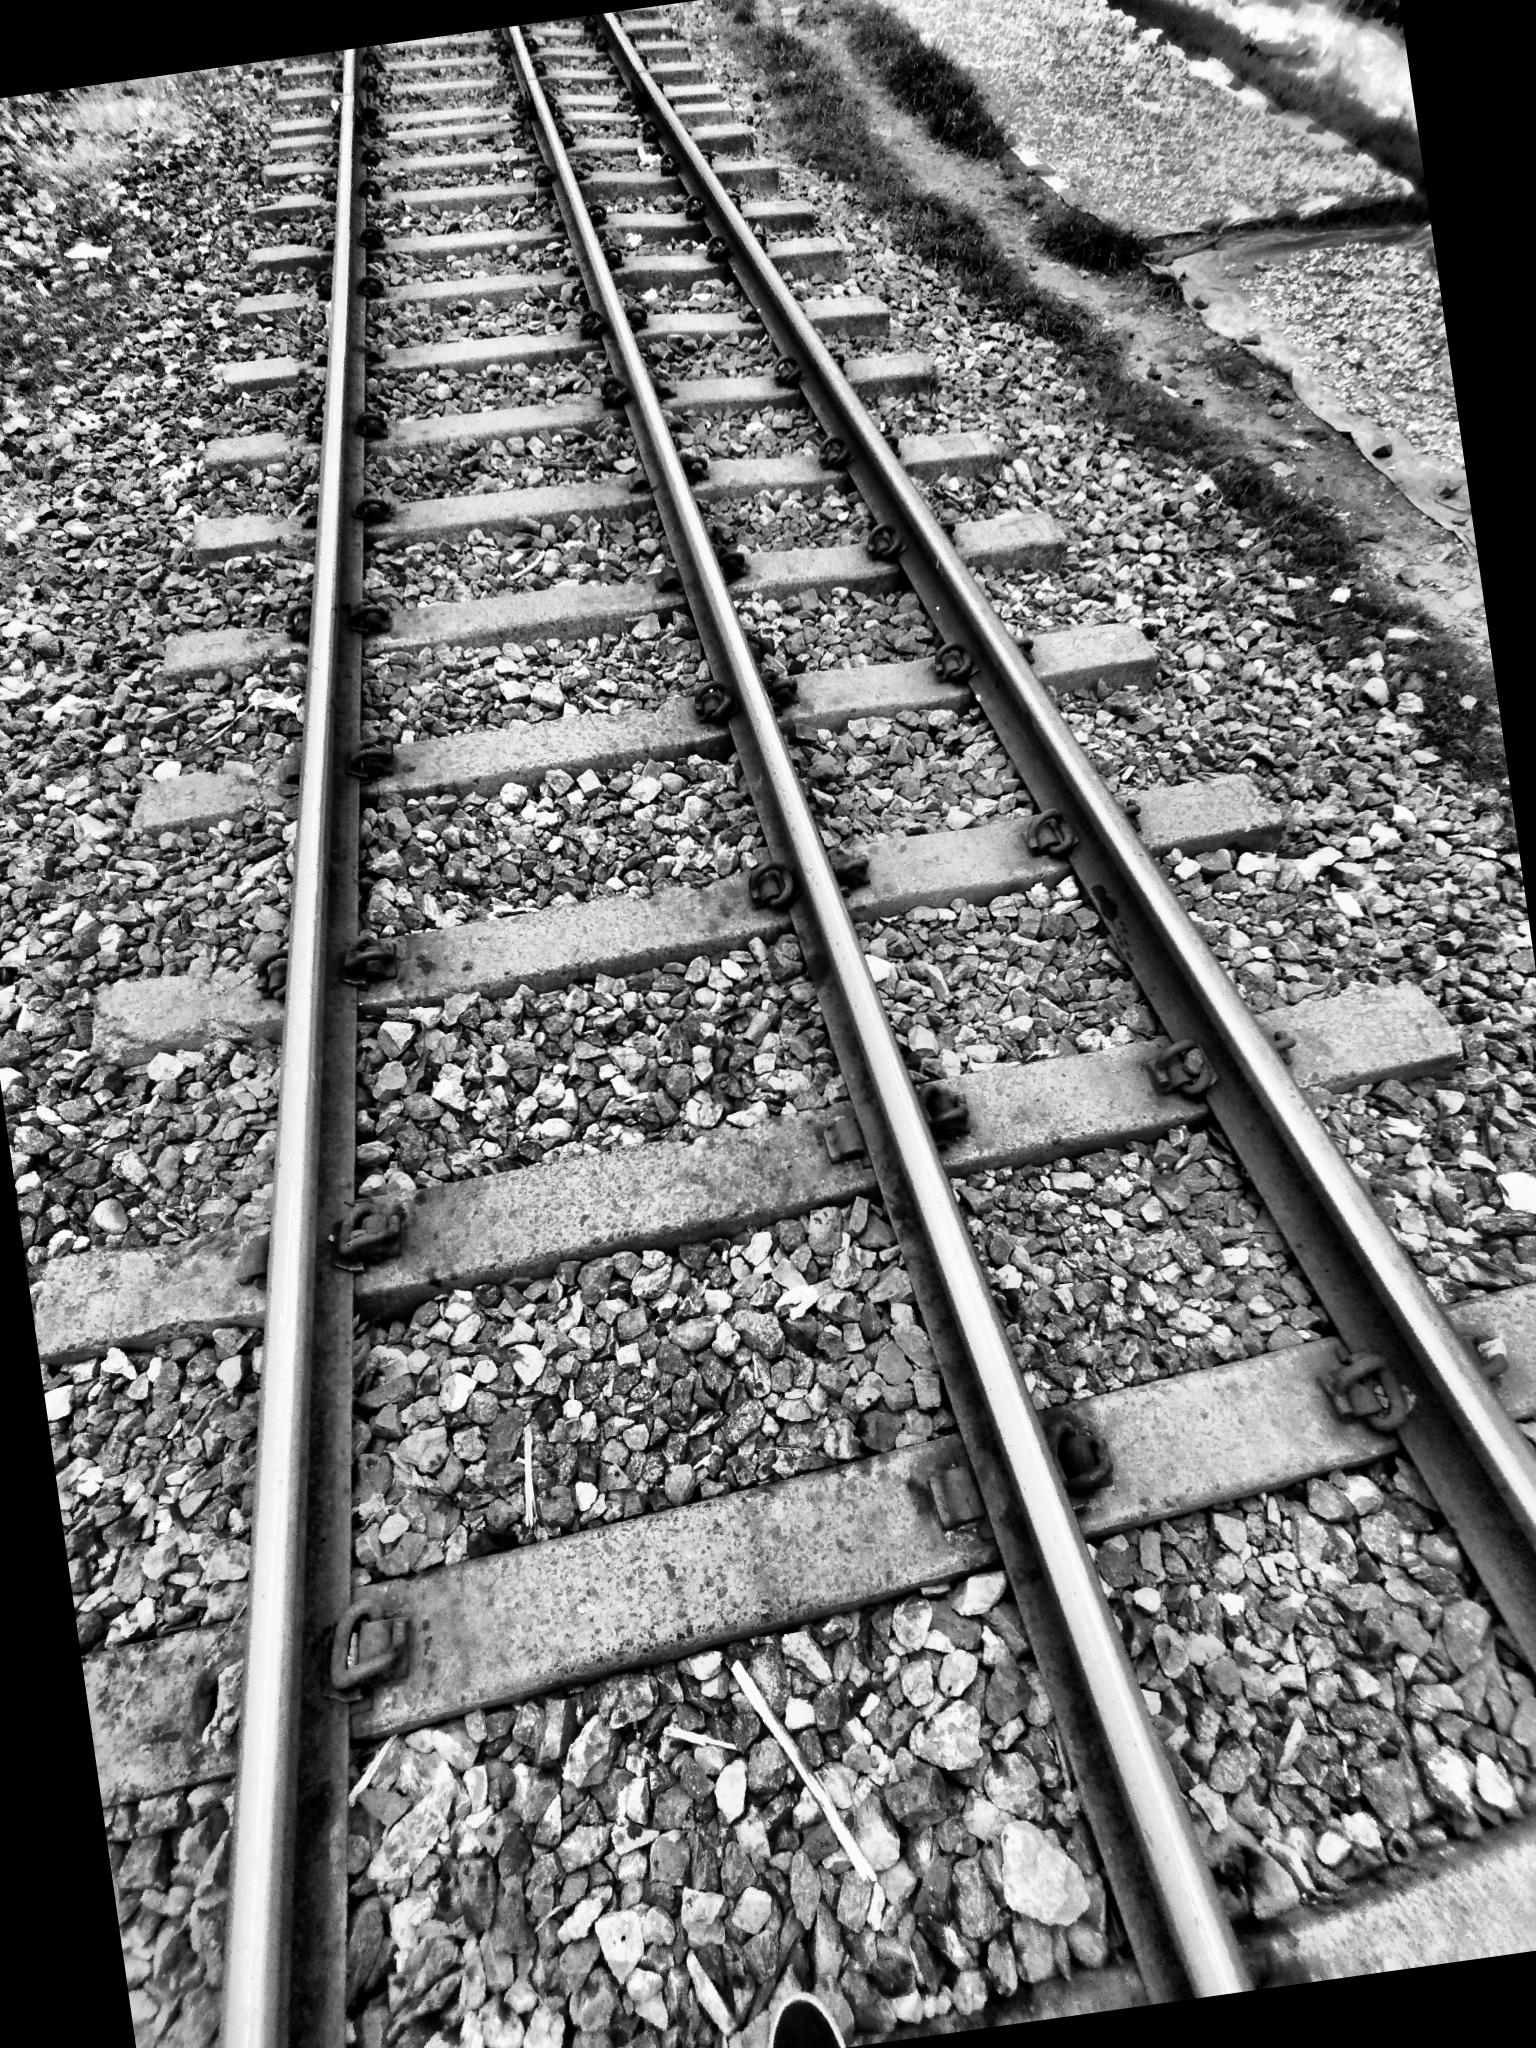Trash: (702, 1606, 892, 1925)
